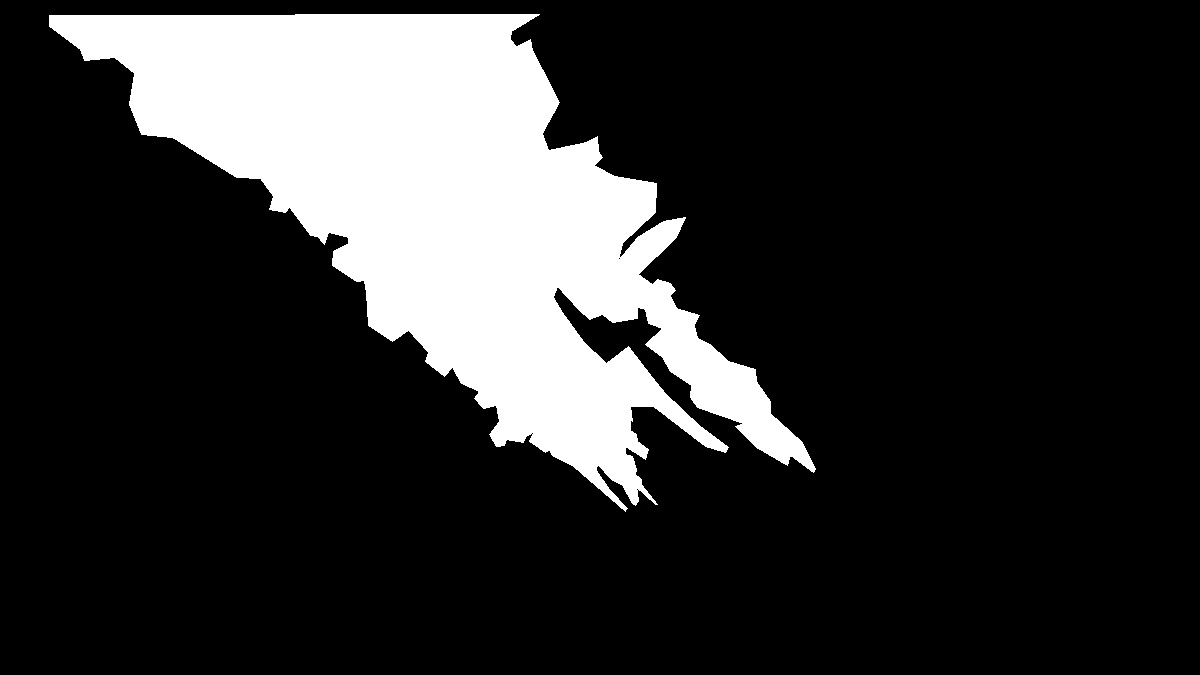Fire: (489, 339, 666, 509), (666, 398, 823, 477)
